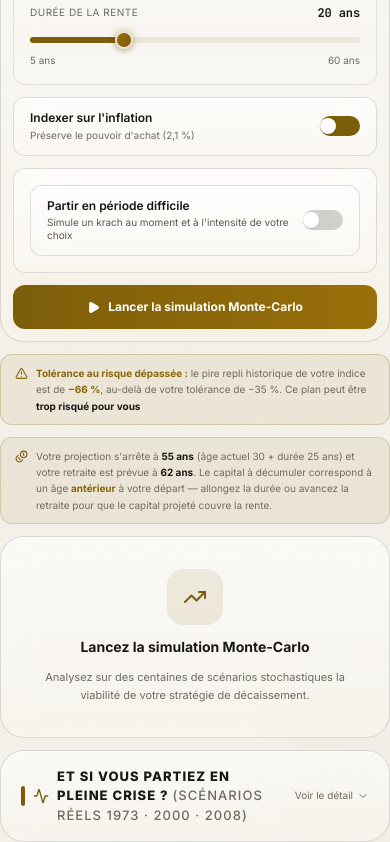
Test case: fiabilité v5.5.0 — RenteRetraiteTab : options, CI et stress tests › les 3 stress tests historiques sont rendus quand on déplie la section (v5.6.0)
(page scrolled)
Expected: the text "choc pétrolier 1973-74" is not shown
Step 1. Click the button "Et si vous partiez en pleine crise" → x=195, y=796, box x1=1 y1=750 x2=389 y2=841
(page scrolled)
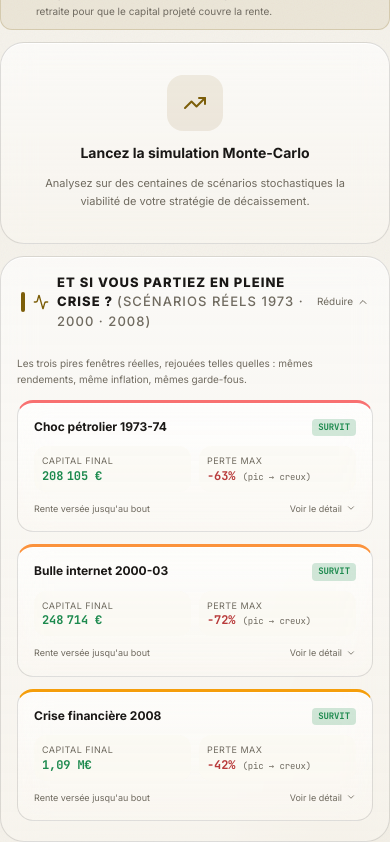
Expected: the text "Choc pétrolier 1973-74" is shown, x1=34 y1=418 x2=167 y2=434
Expected: the text "Bulle internet 2000-03" is shown, x1=34 y1=563 x2=168 y2=579
Expected: the text "Crise financière 2008" is shown, x1=34 y1=708 x2=161 y2=724
